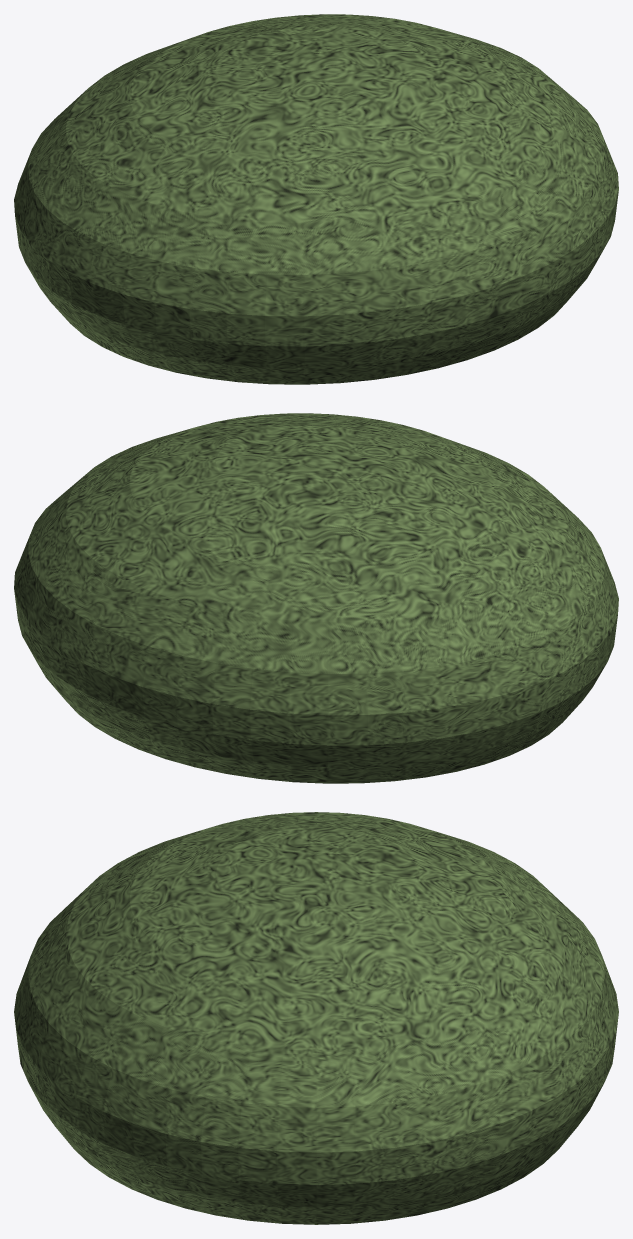
File: CoralCerebro.fbx
3 renders of one model, top to bottom at view 1: azimuth 30°, elevation 25°; view 2: azimuth 150°, elevation 25°; view 3: azimuth 270°, elevation 25°, orthographic. The views are drawn at different scales.
Parts seen in each view (by area): view 1: Sphere; view 2: Sphere; view 3: Sphere.
Part boxes in pixels (x1=…): Sphere: x1=14, y1=14, x2=618, y2=384; Sphere: x1=14, y1=413, x2=618, y2=783; Sphere: x1=14, y1=812, x2=618, y2=1224.
Bounding box in the file's own units: 1.22 × 0.48 × 1.11.
